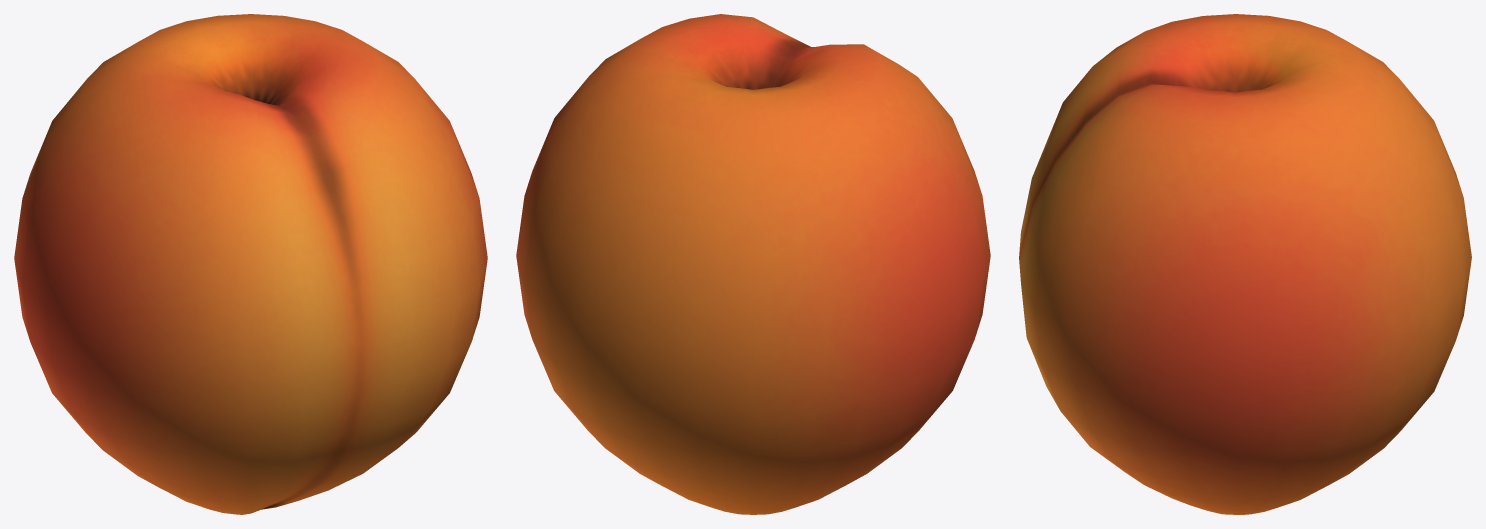
Rendered from Peach-MP.fbx.
3 views of the same model, side by side, from view 1: azimuth 30°, elevation 25°; view 2: azimuth 150°, elevation 25°; view 3: azimuth 270°, elevation 25° (orthographic).
Visible parts, largest first — view 1: peach_MP; view 2: peach_MP; view 3: peach_MP.
Boxes of the visible parts, box(x1,y1,x2,y2) form: peach_MP: box(14, 14, 487, 514); peach_MP: box(516, 14, 990, 514); peach_MP: box(1019, 14, 1471, 514).
Size of the model in its own units: 170 by 179 by 163.
Materials: 1 (1 with a texture image).
